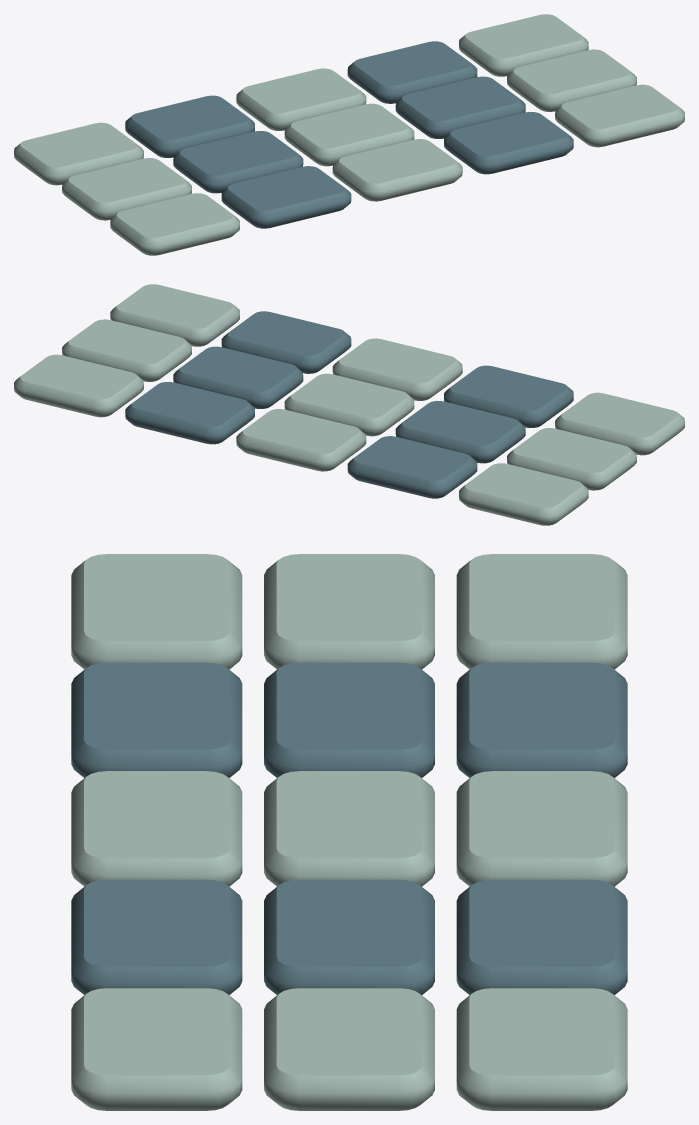
The model's file is paving_1.glb.
3 renders of one model, top to bottom at view 1: azimuth 30°, elevation 25°; view 2: azimuth 150°, elevation 25°; view 3: azimuth 270°, elevation 25°, orthographic. The views are drawn at different scales.
Visible parts, largest first — view 1: Paving; view 2: Paving; view 3: Paving.
Boxes of the visible parts, x1,y1,x2,y2 form: Paving: (14, 14, 684, 255); Paving: (14, 284, 684, 525); Paving: (71, 554, 627, 1110).
Bounding box in the file's own units: 3.53 × 0.11 × 1.56.
